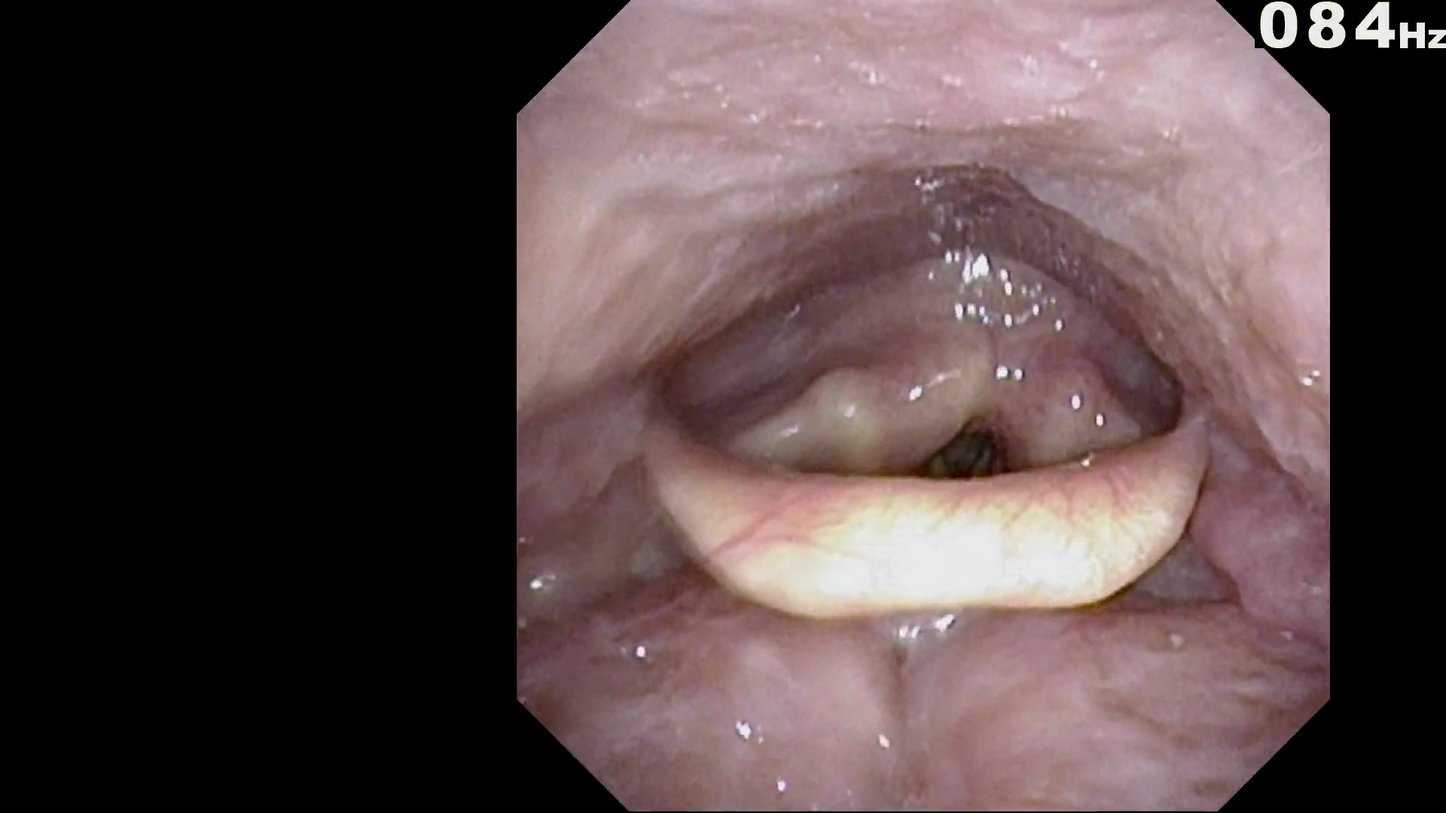epiglottis: (629, 350, 1226, 644)
trachea: (934, 404, 1019, 495)
